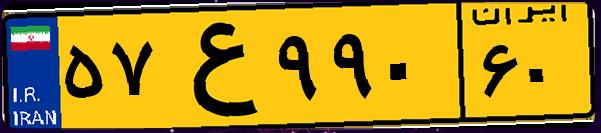0: (385, 28, 445, 110), (525, 38, 570, 115)
5: (57, 26, 110, 100)
6: (475, 38, 525, 113)
7: (110, 28, 158, 98)
9: (270, 28, 330, 110), (330, 28, 385, 110)
ع: (158, 12, 270, 120)
